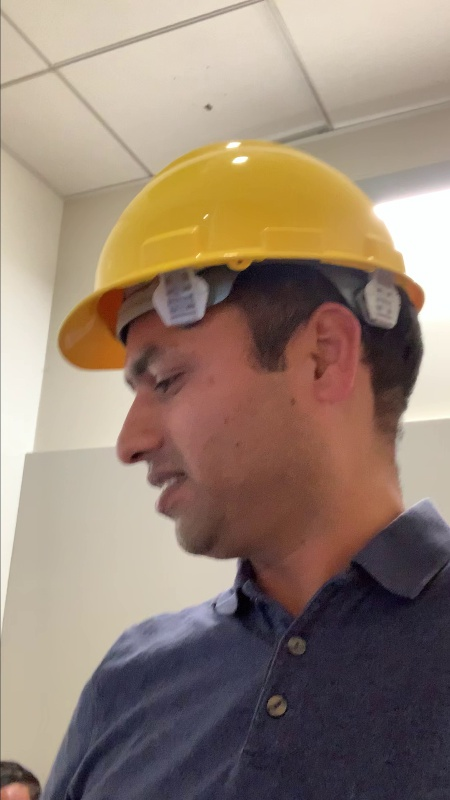helmet: (41, 138, 437, 364)
